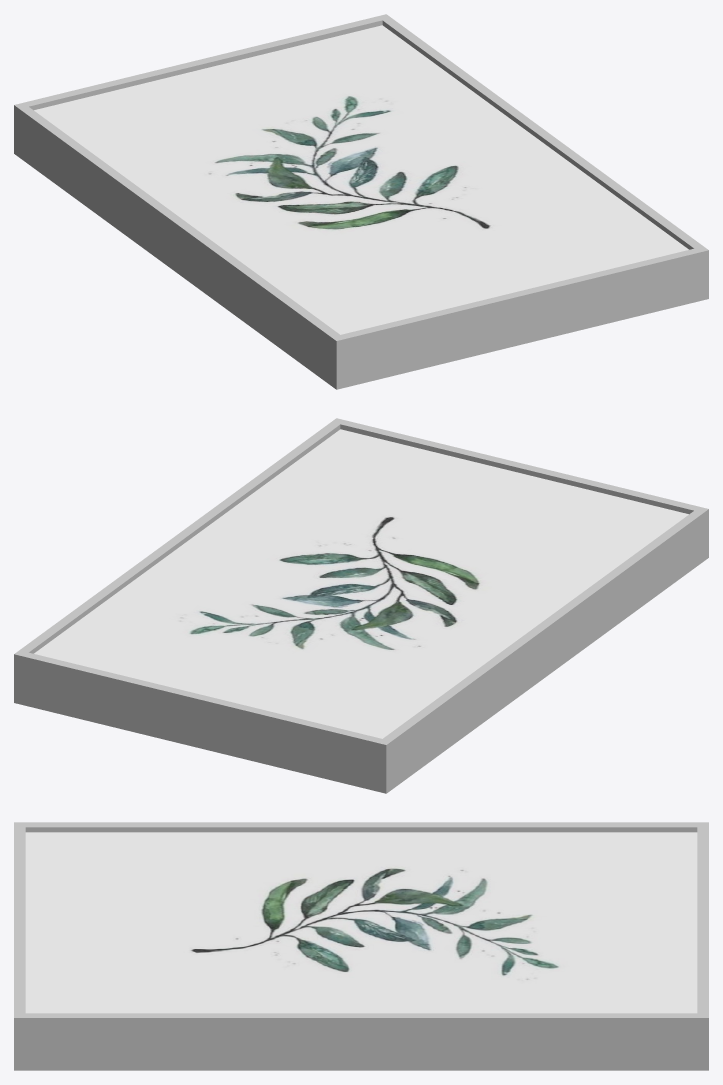
Rendered from Picture (1).fbx.
The picture shows the model from 3 angles, top to bottom: view 1: azimuth 30°, elevation 25°; view 2: azimuth 150°, elevation 25°; view 3: azimuth 270°, elevation 25°; orthographic projection. The views are drawn at different scales.
Visible parts, largest first — view 1: Cube; view 2: Cube; view 3: Cube.
Part boxes in pixels (x1=…): Cube: x1=14, y1=14, x2=708, y2=389; Cube: x1=14, y1=418, x2=708, y2=793; Cube: x1=14, y1=822, x2=708, y2=1070.
Size of the model in its own units: 40 by 5 by 60.
